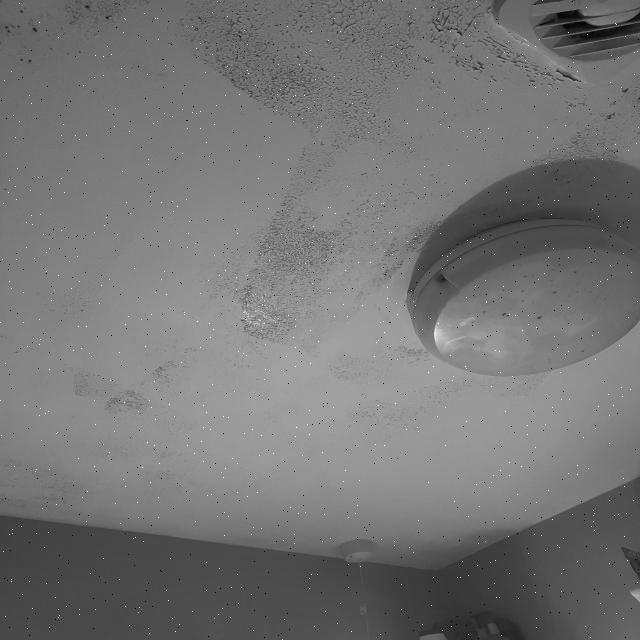stain marks: (216, 133, 475, 353), (166, 0, 494, 129), (335, 368, 574, 457), (0, 0, 151, 101), (49, 339, 210, 428), (518, 106, 640, 209), (0, 443, 85, 525), (123, 439, 203, 512), (327, 336, 434, 382), (24, 270, 99, 322)
